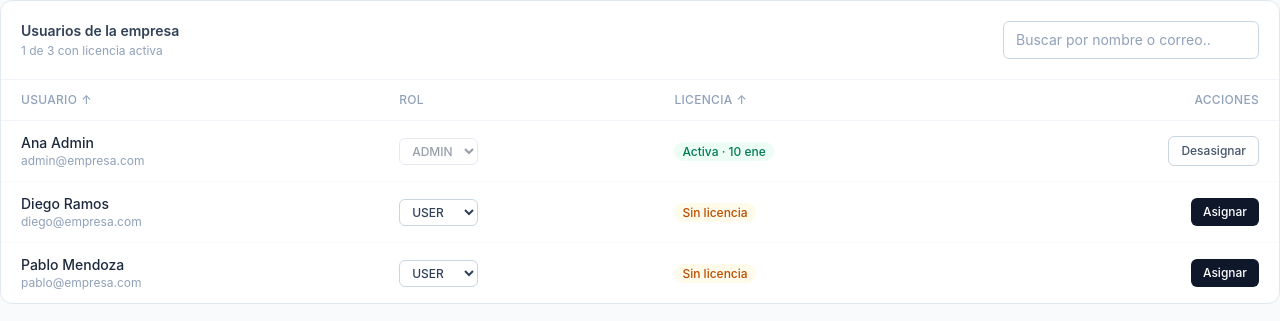
Test: user table › shows an empty state when nothing matches
Type "zzz-no-match" into the search field with id "user-search" at [1131, 40], box [1003,21,1259,59]
Wait 200 ms
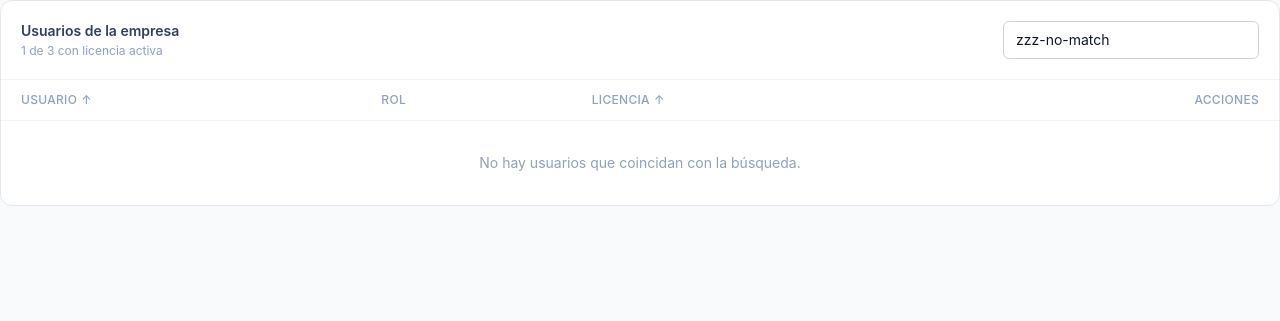
Now the text "No hay usuarios que coincidan con la búsqueda." is shown, box [1,120,1279,205]
